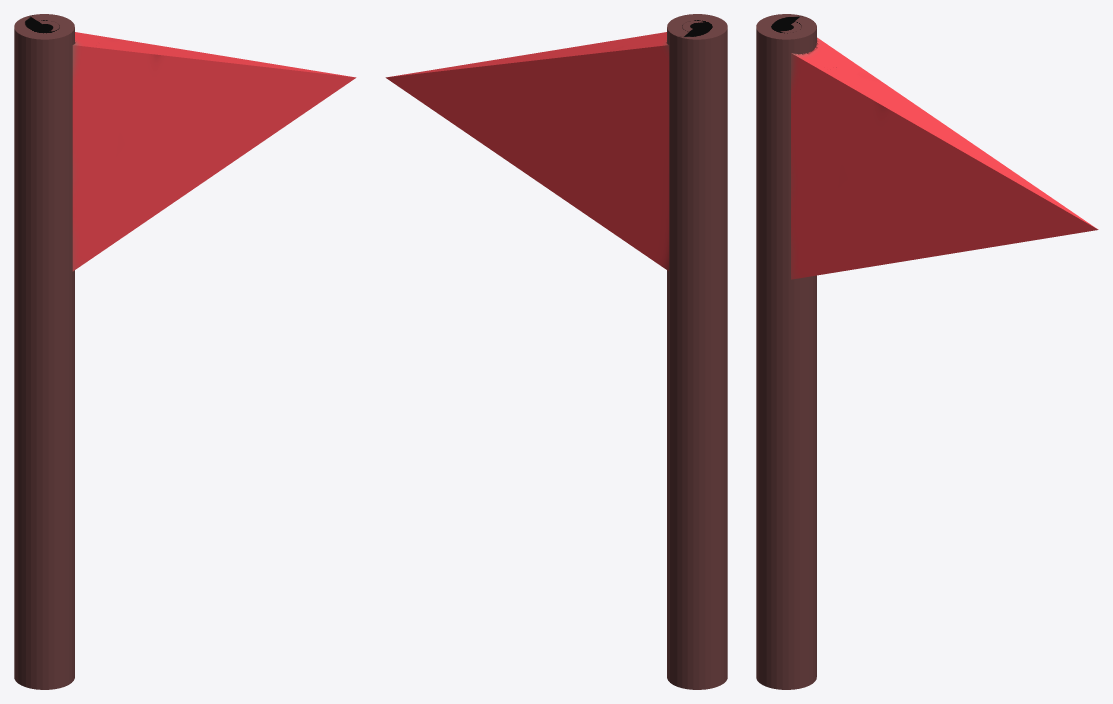
Rendered from goal.obj.
The picture shows the model from 3 angles, left to right: view 1: azimuth 30°, elevation 25°; view 2: azimuth 150°, elevation 25°; view 3: azimuth 330°, elevation 25°; orthographic projection.
Visible parts, largest first — view 1: 立方体; view 2: 立方体; view 3: 立方体.
Boxes of the visible parts, x1,y1,x2,y2 form: 立方体: (14,14,356,689); 立方体: (385,14,727,689); 立方体: (756,14,1098,689).
Bounding box in the file's own units: 5.42 × 9.95 × 0.8436.
Materials: 1 (1 with a texture image).
